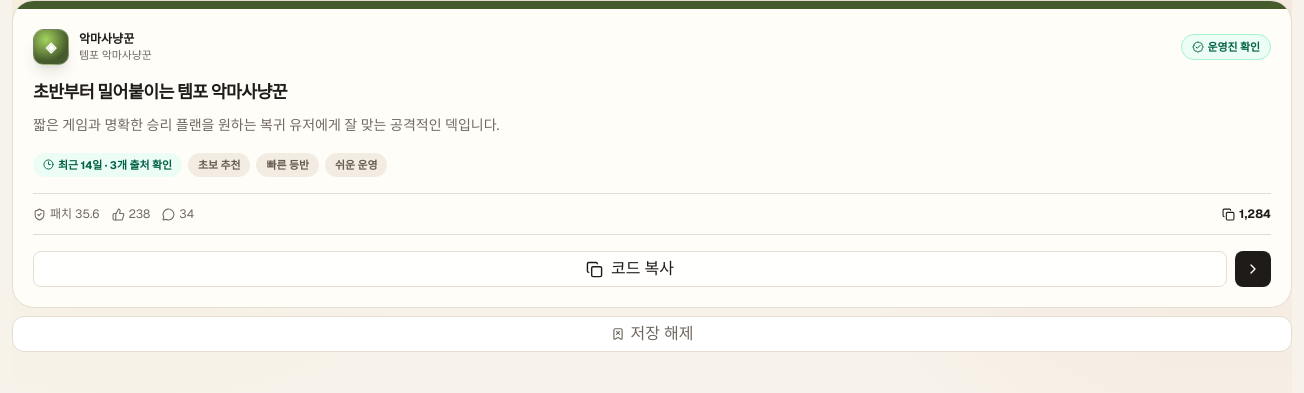
Test case: FavoriteDeckCard › keeps the deck visible when removal fails
Click the button "저장 해제": [652, 334] box [12,316,1292,352]
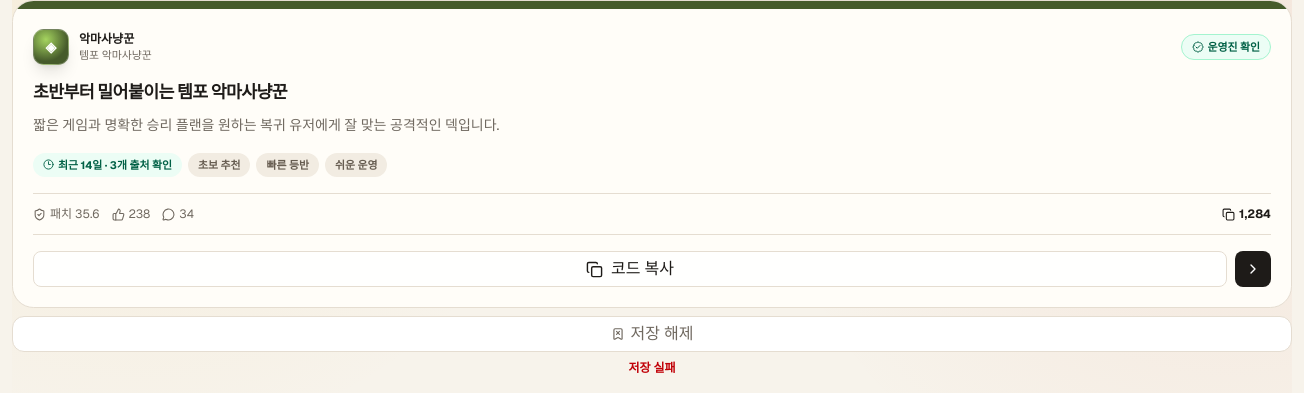
Check: the heading "초반부터 밀어붙이는 템포 악마사냥꾼" is shown, box [33,81,287,103]
Check: the message reads "저장 실패", box [628,360,676,376]
